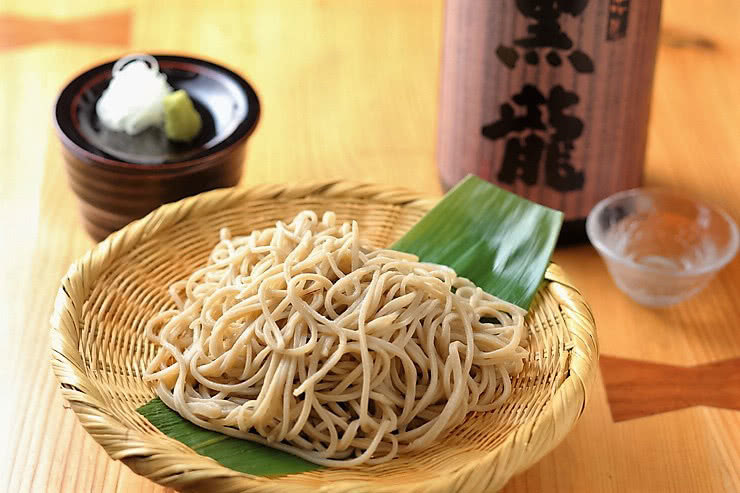Soba: (152, 210, 545, 467)
